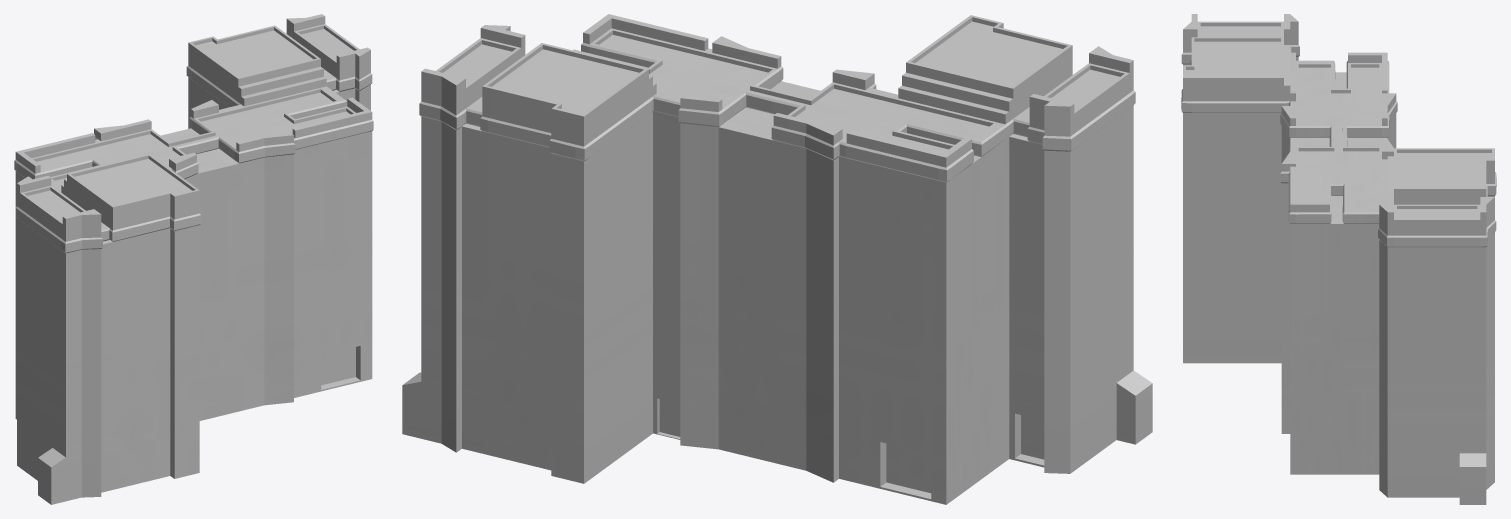
Rendered from Svobodniy_81g.FBX.
3 views of the same model, side by side, from view 1: azimuth 30°, elevation 25°; view 2: azimuth 150°, elevation 25°; view 3: azimuth 270°, elevation 25° (orthographic). The views are drawn at different scales.
Parts seen in each view (by area): view 1: Svobodniy_81g; view 2: Svobodniy_81g; view 3: Svobodniy_81g.
Part boxes in pixels (left/top/right/bottom): Svobodniy_81g: left=14, top=14, right=373, bottom=504; Svobodniy_81g: left=402, top=14, right=1152, bottom=504; Svobodniy_81g: left=1181, top=14, right=1496, bottom=504.
Size of the model in its own units: 4617 by 2890 by 2891.
